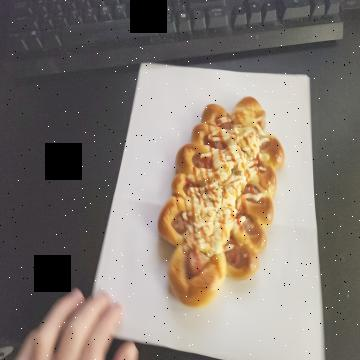pizza_bread: (160, 94, 283, 307)
